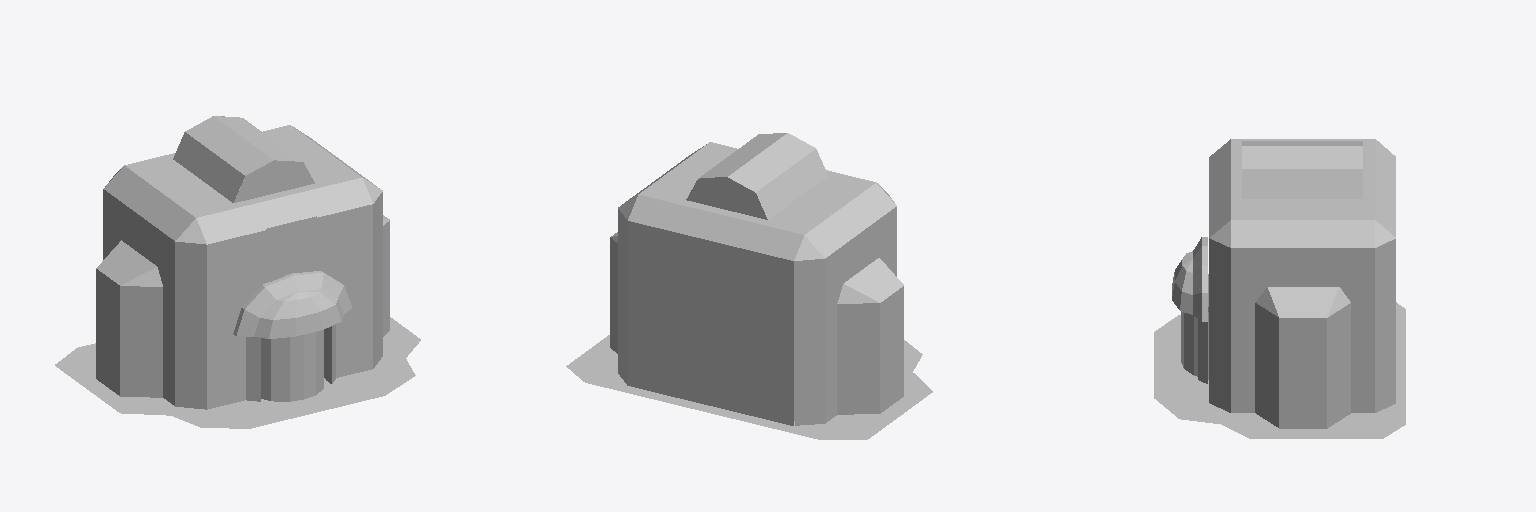
File: PokeCenter.obj
3 views of the same model, side by side, from view 1: azimuth 30°, elevation 25°; view 2: azimuth 150°, elevation 25°; view 3: azimuth 270°, elevation 25° (orthographic).
Parts seen in each view (by area): view 1: Pokemon_Center, Door; view 2: Pokemon_Center; view 3: Pokemon_Center, Door.
Part boxes in pixels (bbox=[...]): Pokemon_Center: bbox=[55, 116, 420, 428]; Door: bbox=[261, 330, 323, 401]; Pokemon_Center: bbox=[566, 133, 932, 439]; Pokemon_Center: bbox=[1154, 139, 1405, 438]; Door: bbox=[1181, 274, 1208, 376].
Size of the model in its own units: 116 by 80.79 by 84.26.